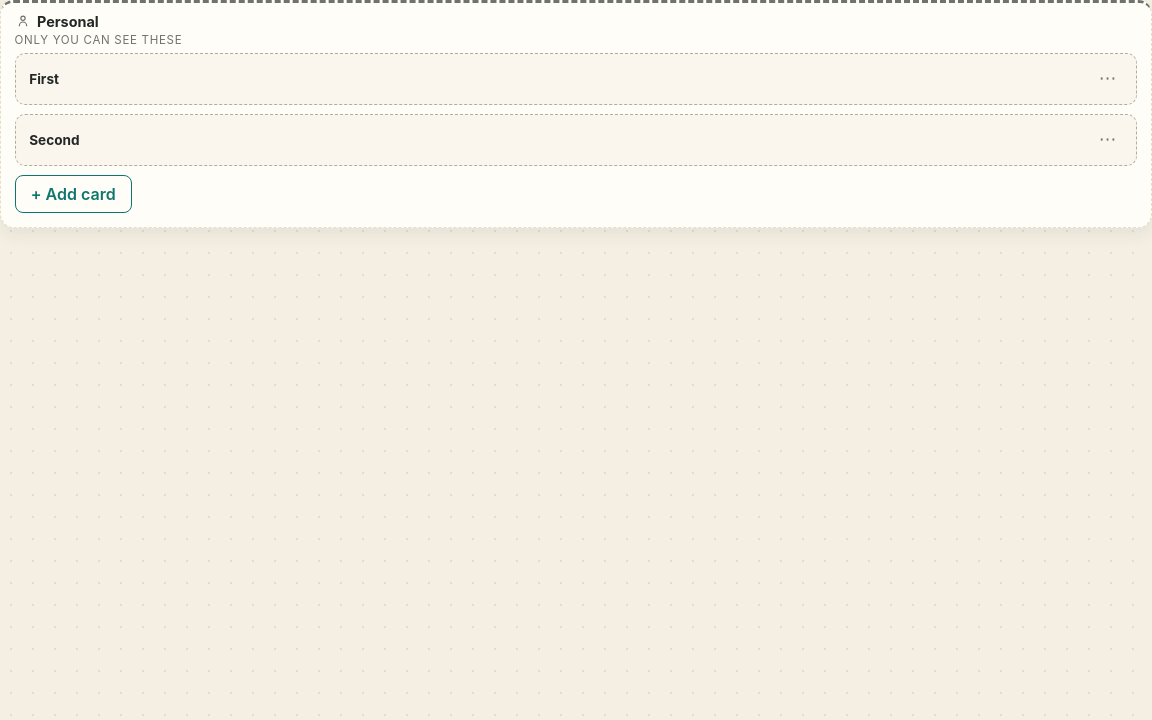
Test: PersonalLane › offers no move off the end of the list
Click the button named "First" at coordinates (1108, 79), box x1=1092 y1=68 x2=1123 y2=90
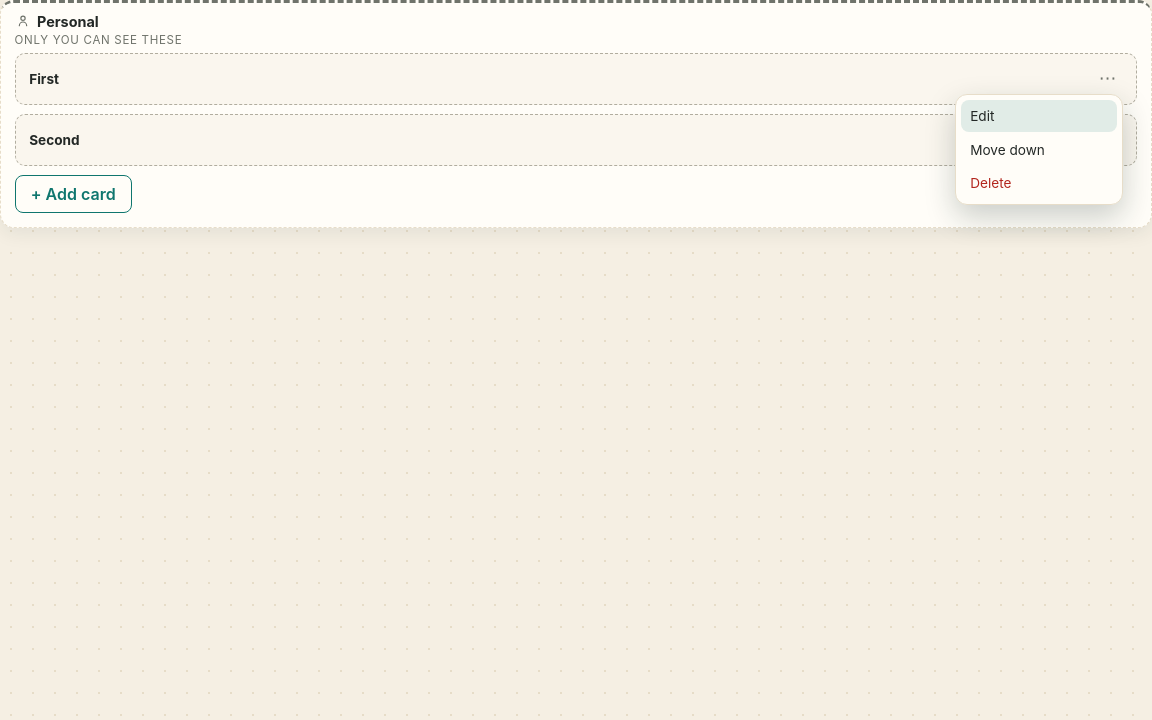
Result: the button "Move down" is shown at x1=961 y1=134 x2=1117 y2=166
